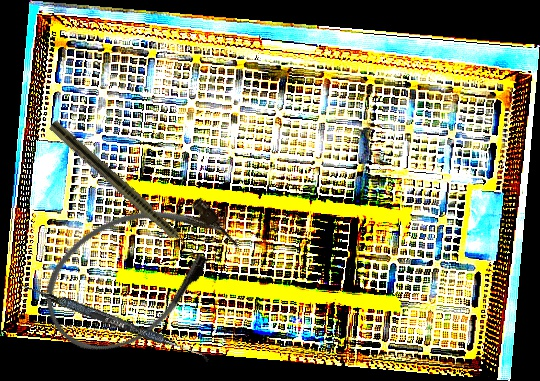Cannula: (20, 167, 255, 377)
Handpiece: (46, 118, 208, 267)
Spatula Surgical: (19, 281, 212, 363)
